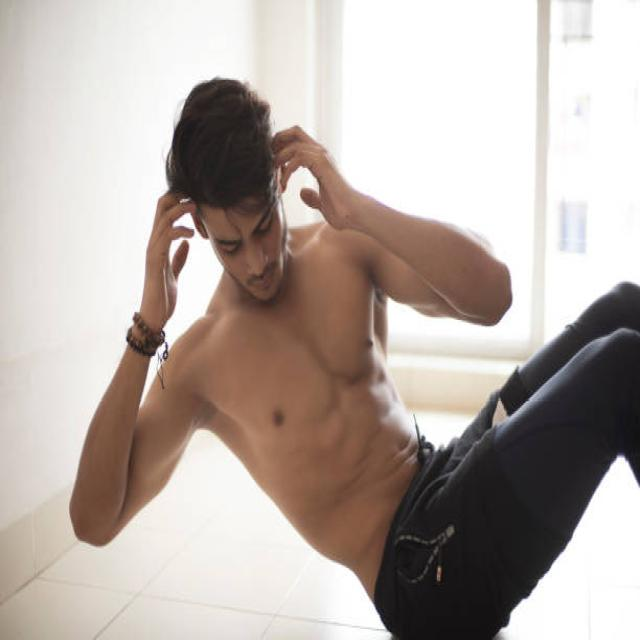no_helmet: (162, 146, 292, 274)
